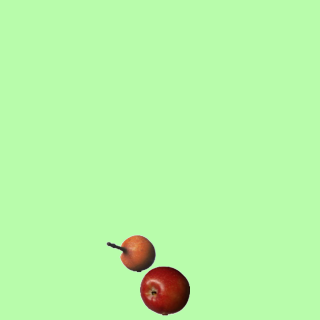Apple Braeburn: (139, 265, 189, 315)
Granadilla: (105, 228, 155, 278)
